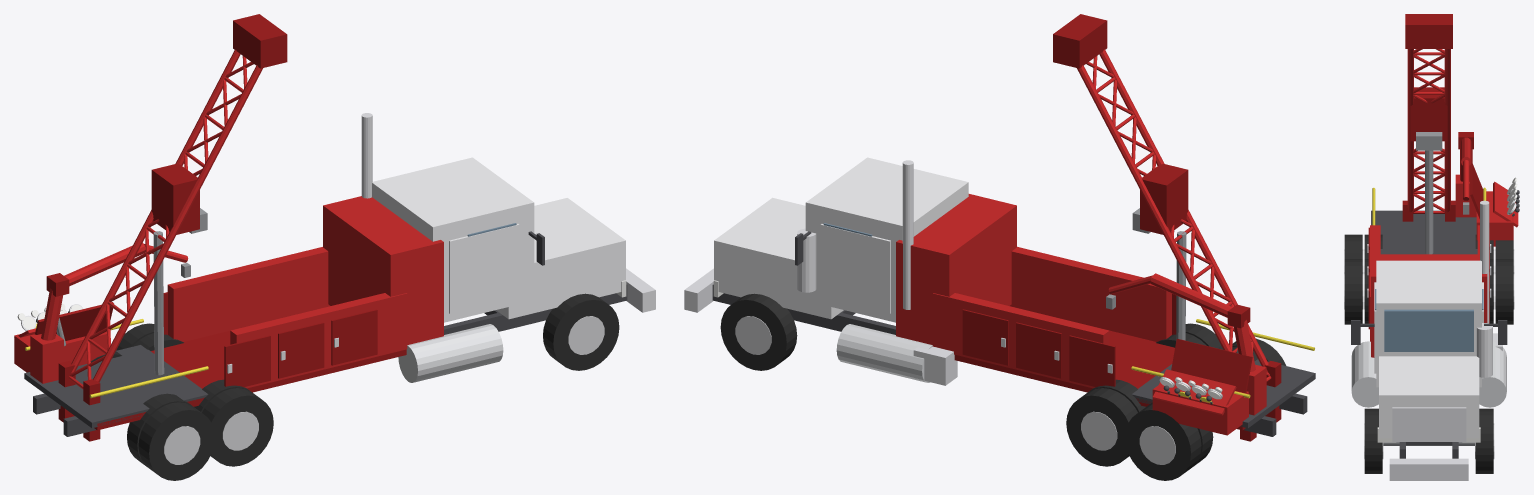
File: mg_truck.glb
3 views of the same model, side by side, from view 1: azimuth 30°, elevation 25°; view 2: azimuth 150°, elevation 25°; view 3: azimuth 270°, elevation 25° (orthographic). The views are drawn at different scales.
Visible parts, largest first — view 1: MG_FrontCabinet, MG_SideCab_0, MG_Hood, MG_CabRoof, MG_RearDeck, MG_Door_1, MG_SideCab_1, MG_CabBody, MG_FuelTank_1, MG_BedFloor, MG_Tire_steer1, MG_Tire_drive211 (+21 smaller); view 2: MG_FrontCabinet, MG_SideCab_1, MG_Hood, MG_CabRoof, MG_Door_0, MG_SideCab_0, MG_CabBody, MG_Tire_steer0, MG_FuelTank_0, MG_BedFloor, MG_Tire_drive101, MG_Tire_drive201 (+22 smaller); view 3: MG_Hood, MG_CabRoof, MG_Windshield, MG_RearDeck, MG_Grille, MG_Bumper, MG_CrownBlock, MG_CabBody, MG_FuelTank_1, MG_GripperHead, MG_FrontCabinet, MG_Tire_drive101 (+24 smaller).
Boxes of the visible parts, box(x1,y1,x2,y2) form: MG_FrontCabinet: box(323, 196, 443, 344); MG_SideCab_0: box(167, 247, 329, 341); MG_Hood: box(496, 198, 625, 319); MG_CabRoof: box(372, 157, 534, 233); MG_RearDeck: box(24, 345, 208, 428); MG_Door_1: box(449, 224, 519, 313); MG_SideCab_1: box(230, 293, 407, 388); MG_CabBody: box(372, 186, 534, 322); MG_FuelTank_1: box(398, 324, 503, 382); MG_BedFloor: box(94, 330, 406, 430); MG_Tire_steer1: box(543, 293, 619, 370); MG_Tire_drive211: box(138, 402, 214, 480); MG_FrontCabinet: box(896, 194, 1016, 344); MG_SideCab_1: box(1010, 246, 1171, 341); MG_Hood: box(714, 197, 843, 319); MG_CabRoof: box(805, 157, 968, 232); MG_Door_0: box(820, 224, 890, 313); MG_SideCab_0: box(932, 293, 1109, 388); MG_CabBody: box(805, 186, 968, 322); MG_Tire_steer0: box(720, 293, 797, 370); MG_FuelTank_0: box(836, 324, 932, 382); MG_BedFloor: box(954, 330, 1245, 430); MG_Tire_drive101: box(1066, 388, 1137, 466); MG_Tire_drive201: box(1129, 404, 1201, 480); MG_Hood: box(1379, 356, 1479, 438); MG_CabRoof: box(1376, 260, 1481, 308); MG_Windshield: box(1384, 309, 1473, 351); MG_RearDeck: box(1371, 210, 1477, 254); MG_Grille: box(1392, 407, 1466, 441); MG_Bumper: box(1389, 458, 1468, 480); MG_CrownBlock: box(1405, 14, 1452, 48); MG_CabBody: box(1376, 306, 1481, 387); MG_FuelTank_1: box(1351, 341, 1378, 407); MG_GripperHead: box(1410, 87, 1447, 141); MG_FrontCabinet: box(1371, 254, 1487, 357); MG_Tire_drive101: box(1495, 259, 1513, 324).
Size of the model in its own units: 10.93 by 6.91 by 3.33.
